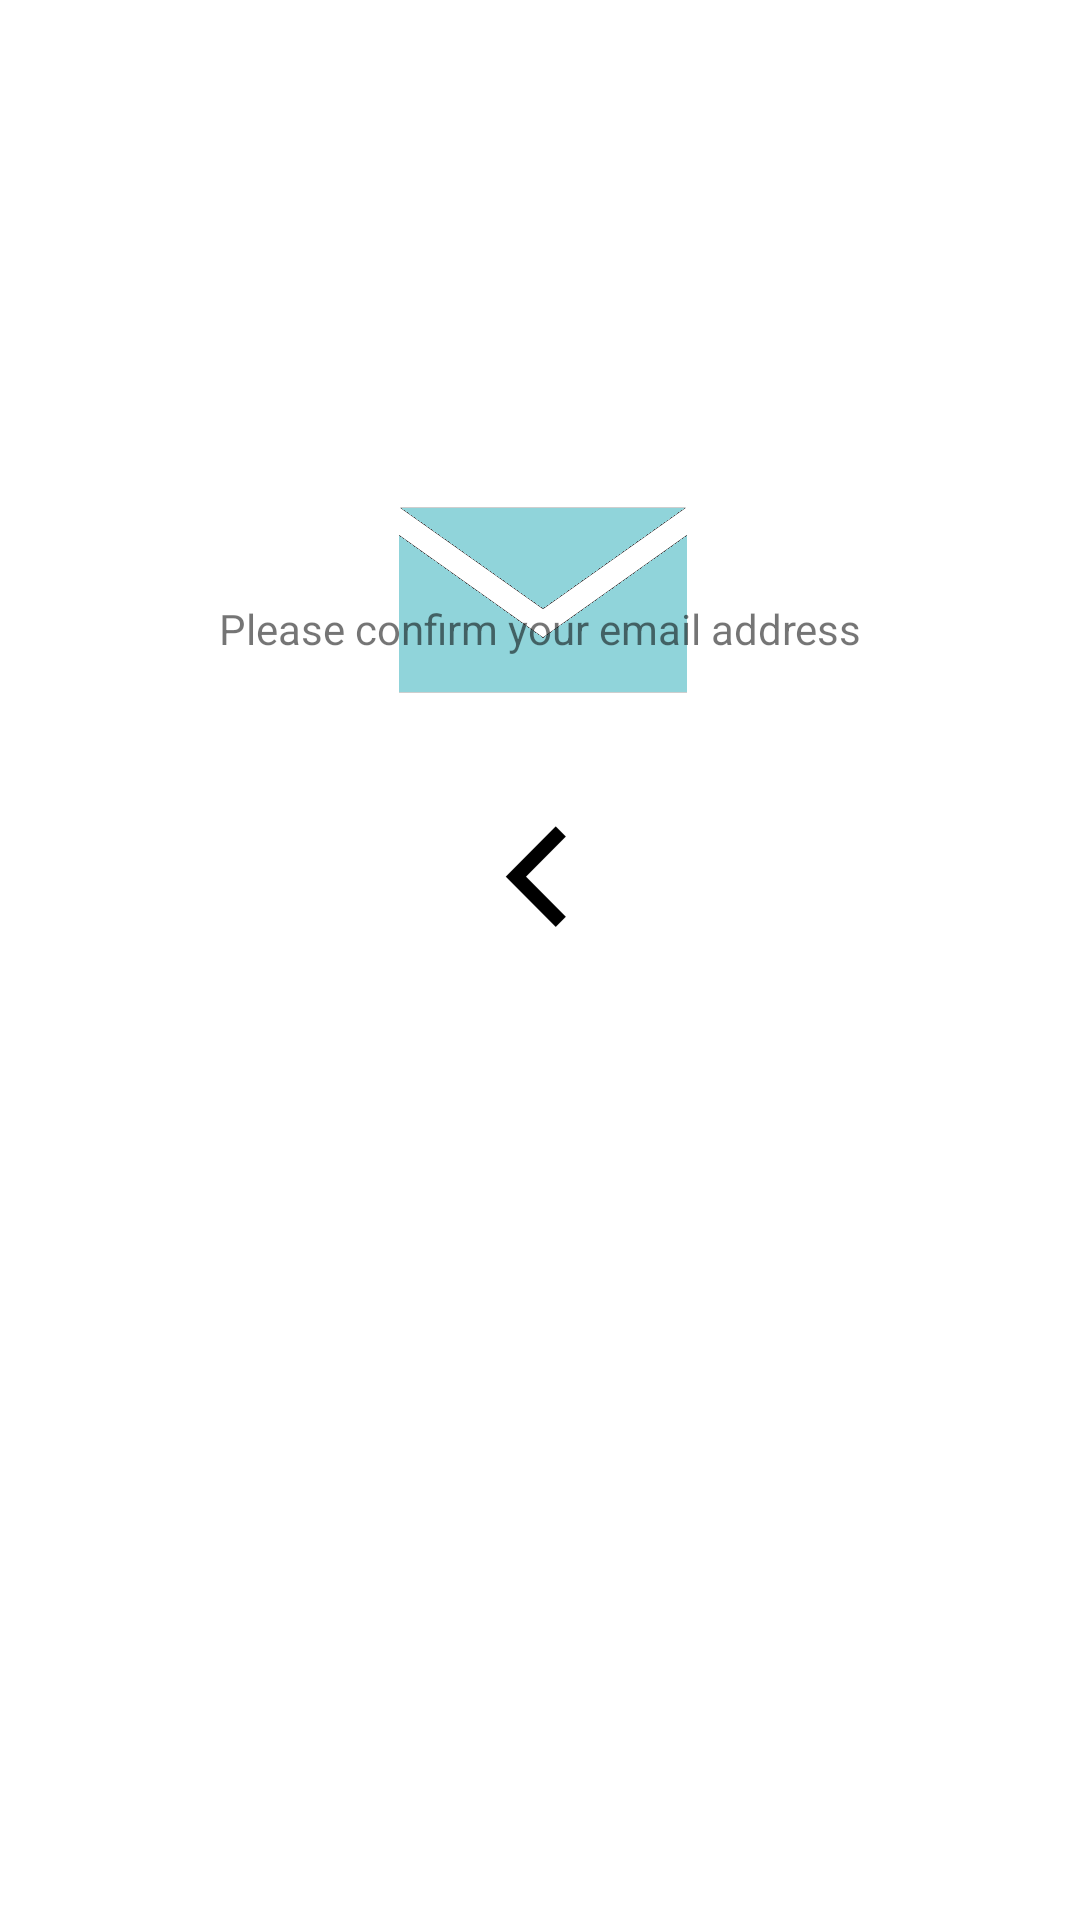

Locate icon controls on the screen. Image size 1080px x 1920px, boxes as (x1, y1, x2, y2).
back: (506, 826, 566, 927)
